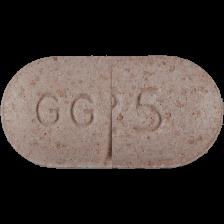33261-337: (0, 0, 224, 224)
